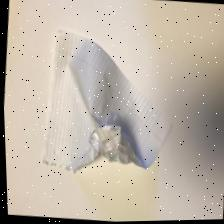paper: (10, 0, 199, 189)
